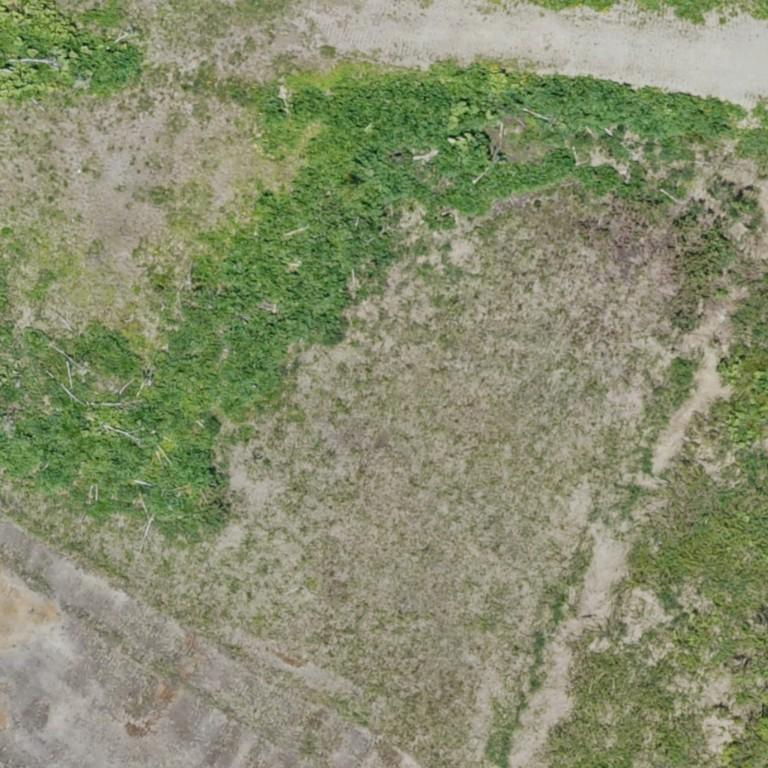hogweed: (0, 145, 625, 534), (513, 75, 731, 135), (218, 197, 292, 311), (70, 322, 141, 374)
